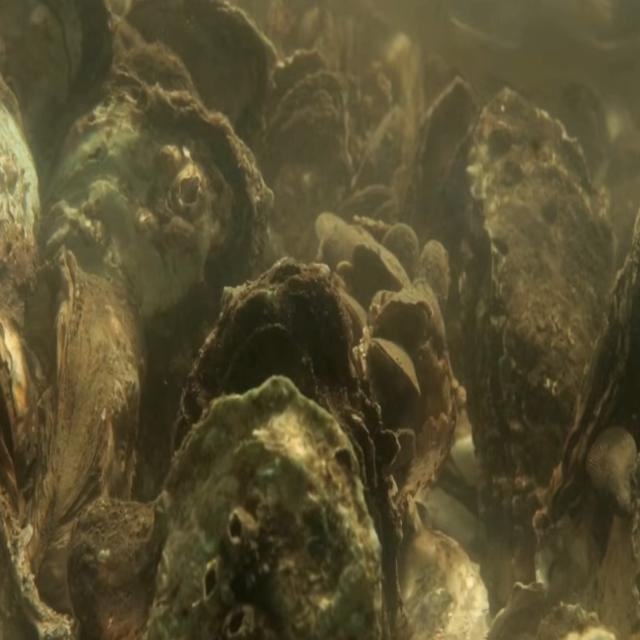Oyster-Closed: (44, 82, 273, 496), (171, 254, 402, 640), (456, 87, 614, 530), (145, 373, 384, 640), (532, 206, 640, 590), (367, 336, 417, 399), (377, 298, 435, 346)
Oyster-Indeterminate: (28, 242, 142, 640), (400, 75, 480, 306), (352, 240, 412, 294), (381, 221, 420, 292), (418, 239, 450, 315)
Oyster-Open: (254, 48, 351, 260)
